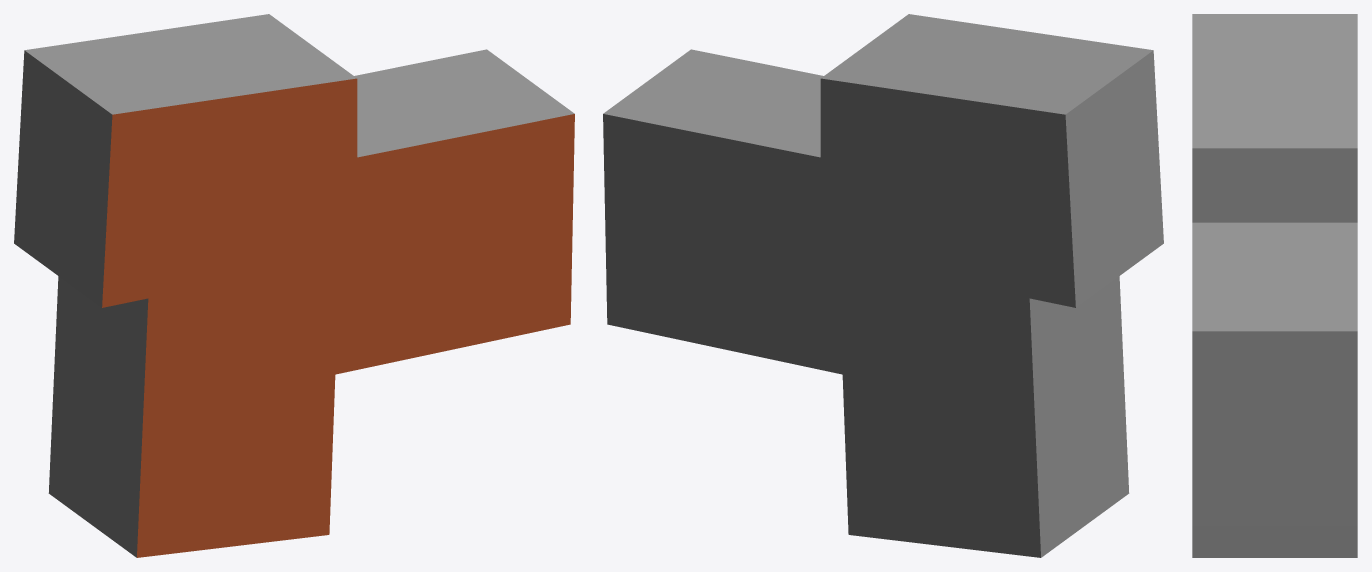
Rendered from construction_6244_assumed_A_Casa_h6m.obj.
3 renders of one model, left to right at view 1: azimuth 30°, elevation 25°; view 2: azimuth 150°, elevation 25°; view 3: azimuth 270°, elevation 25°, orthographic. The views are drawn at different scales.
Visible parts, largest first — view 1: construction_6244_assumed_A_Casa; view 2: construction_6244_assumed_A_Casa; view 3: construction_6244_assumed_A_Casa.
Part boxes in pixels (left/top/right/bottom): construction_6244_assumed_A_Casa: left=14, top=14, right=574, bottom=557; construction_6244_assumed_A_Casa: left=603, top=14, right=1163, bottom=557; construction_6244_assumed_A_Casa: left=1192, top=14, right=1357, bottom=557.
Bounding box in the file's own units: 18.6 × 17.78 × 6.
